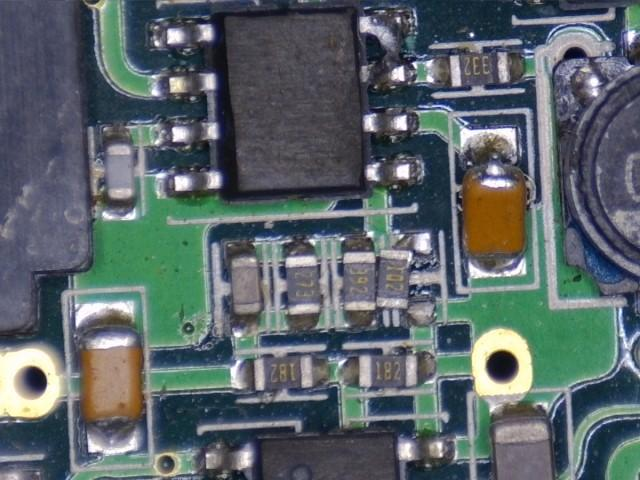pcb_defect: (461, 128, 527, 279), (376, 232, 435, 326), (359, 7, 417, 82)
